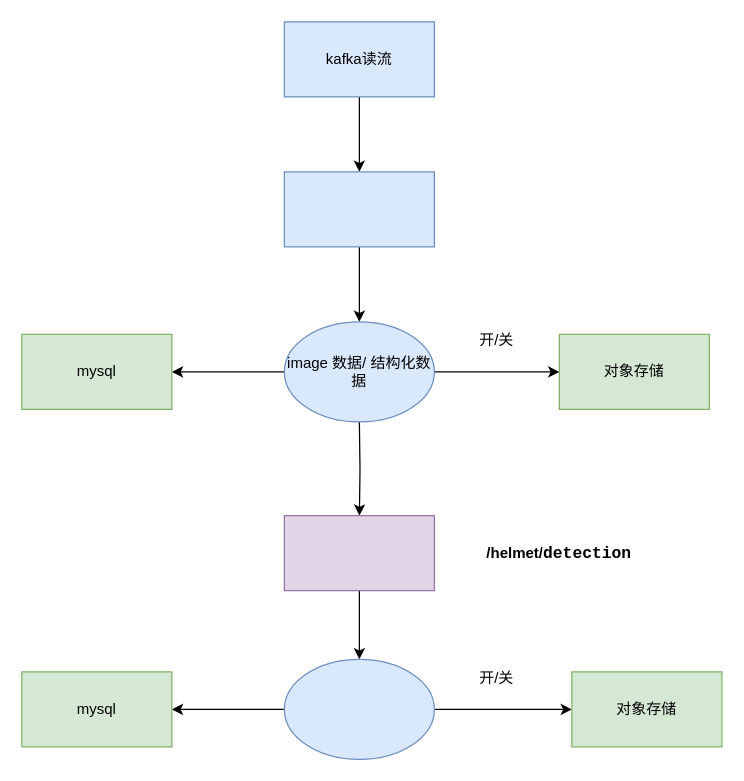
The diagram is 744 pixels wide and 781 high, and some of its shapes have lost their labels. The centre of each missing label's shape, as x and y in pixels:
"image数据/ 结构化数据" goes at (x=358, y=708).
"protobuf解析" goes at (x=358, y=209).
"调用安全帽算法" goes at (x=358, y=552).
